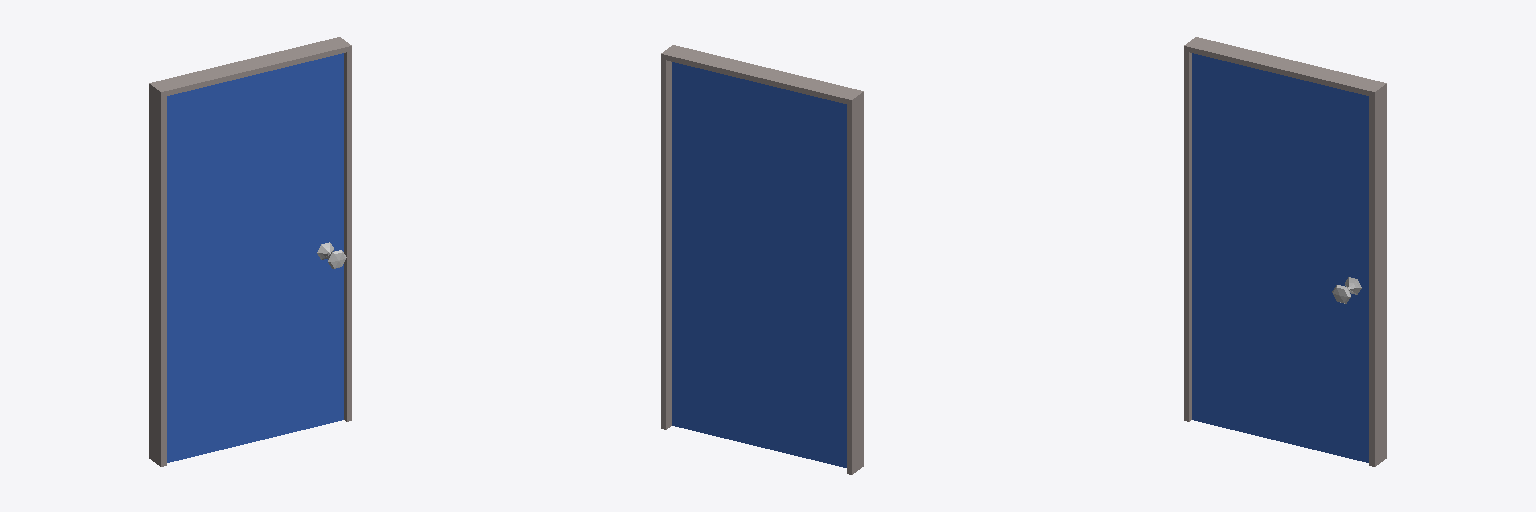
Rendered from porta.obj.
3 renders of one model, left to right at view 1: azimuth 30°, elevation 25°; view 2: azimuth 150°, elevation 25°; view 3: azimuth 330°, elevation 25°, orthographic.
Visible parts, largest first — view 1: Curve_Porta; view 2: Curve_Porta; view 3: Curve_Porta.
Boxes of the visible parts, <box> form: Curve_Porta: <box>149,37,351,466</box>; Curve_Porta: <box>661,45,863,474</box>; Curve_Porta: <box>1184,37,1386,466</box>.
Bounding box in the file's own units: 108 × 203 × 22.74.